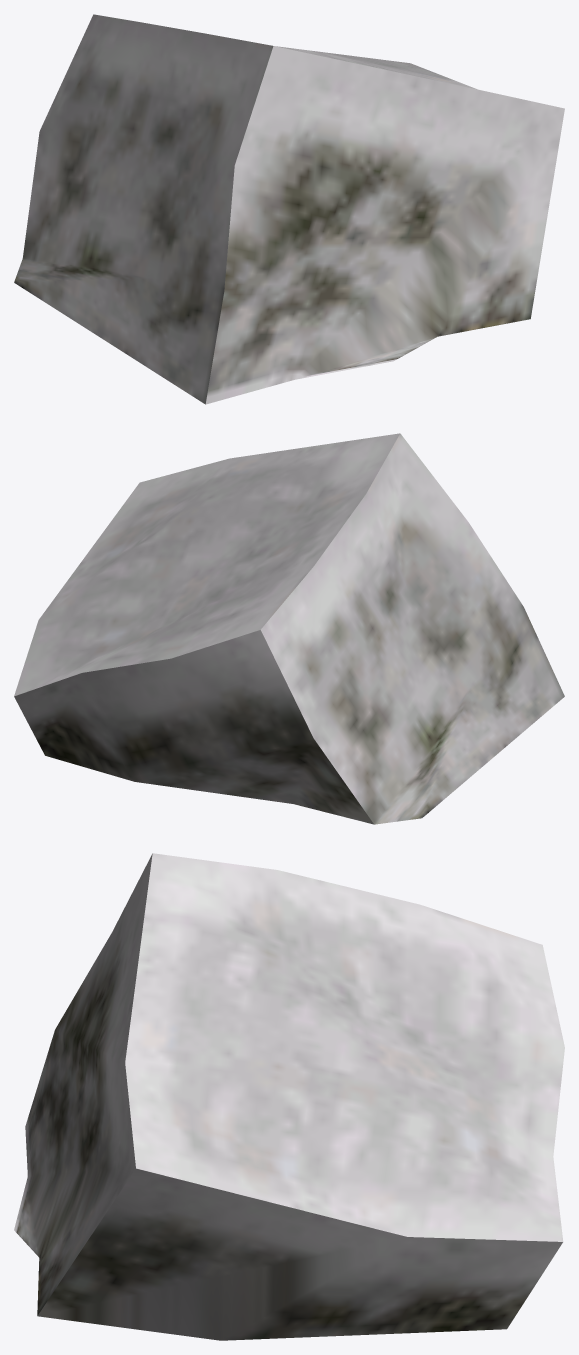
File: ob-bigstone03_lod_01.glb
3 views of the same model, one above another, from view 1: azimuth 30°, elevation 25°; view 2: azimuth 150°, elevation 25°; view 3: azimuth 270°, elevation 25° (orthographic). The views are drawn at different scales.
Parts seen in each view (by area): view 1: ob-bigstone03; view 2: ob-bigstone03; view 3: ob-bigstone03.
Part boxes in pixels (left/top/right/bottom): ob-bigstone03: left=14, top=14, right=564, bottom=404; ob-bigstone03: left=14, top=433, right=564, bottom=824; ob-bigstone03: left=14, top=853, right=564, bottom=1340.
Size of the model in its own units: 4.16 by 2.7 by 3.93.
1 material, 1 textured.
